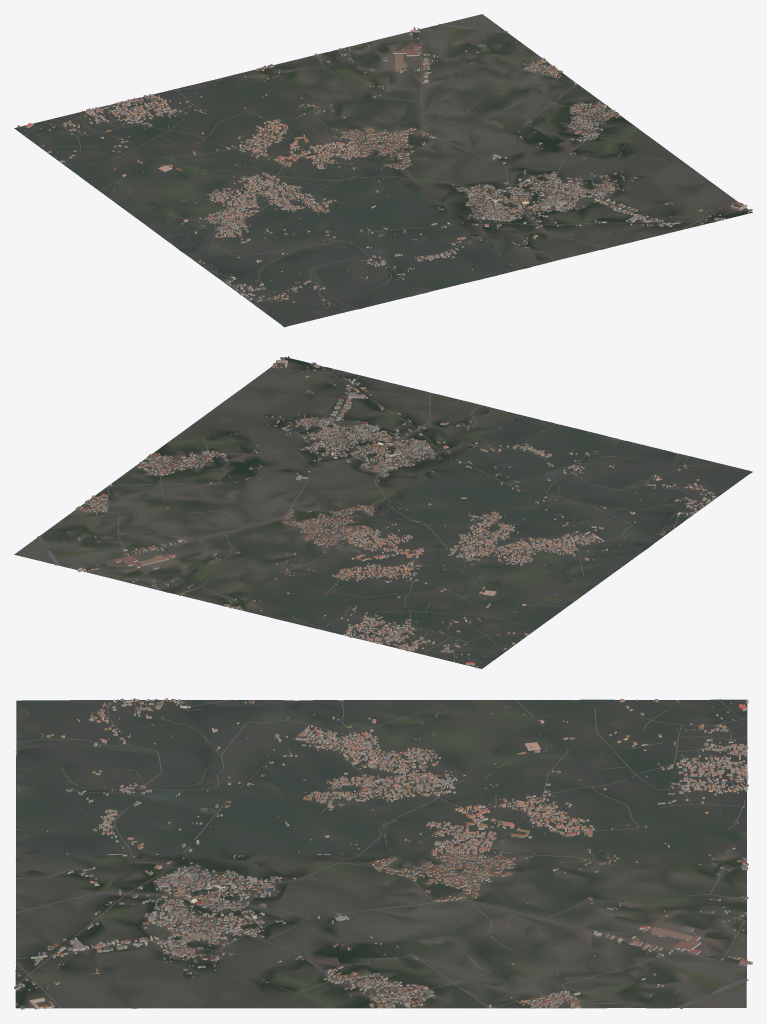
The picture shows the model from 3 angles, top to bottom: view 1: azimuth 30°, elevation 25°; view 2: azimuth 150°, elevation 25°; view 3: azimuth 270°, elevation 25°; orthographic projection. The views are drawn at different scales.
Visible parts, largest first — view 1: ground, buildings, roads, water; view 2: ground, buildings, roads, water; view 3: ground, buildings, roads, water.
Part boxes in pixels (bbox=[...]): ground: bbox=[14, 14, 752, 327]; buildings: bbox=[17, 27, 752, 305]; roads: bbox=[25, 23, 735, 311]; water: bbox=[177, 47, 708, 324]; ground: bbox=[14, 357, 752, 668]; buildings: bbox=[63, 356, 715, 668]; roads: bbox=[37, 365, 710, 662]; water: bbox=[129, 387, 746, 591]; ground: bbox=[15, 699, 747, 1008]; buildings: bbox=[14, 698, 752, 1009]; roads: bbox=[15, 699, 748, 1008]; water: bbox=[15, 702, 743, 1008].
Bounding box in the file's own units: 2816 × 23.87 × 2834.
